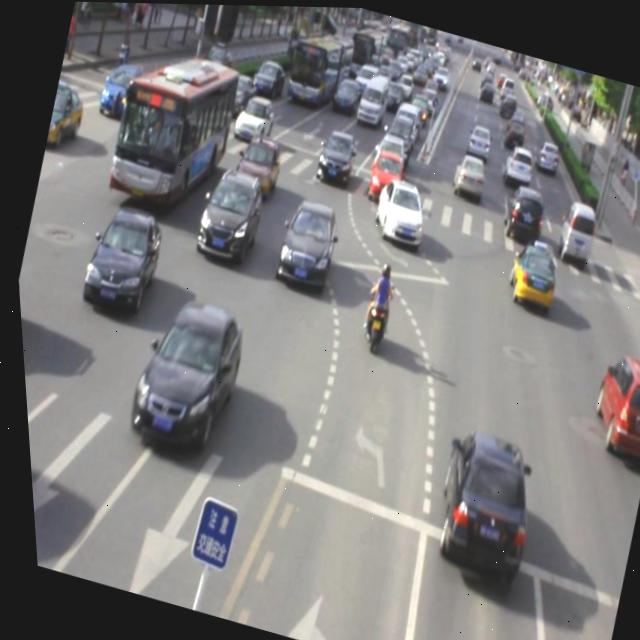car: (113, 284, 251, 455), (414, 418, 542, 580), (71, 198, 168, 317), (186, 160, 267, 264), (575, 344, 640, 462), (266, 193, 343, 292), (361, 173, 431, 249), (497, 235, 559, 311), (225, 128, 285, 200)
van: (98, 38, 248, 219)
